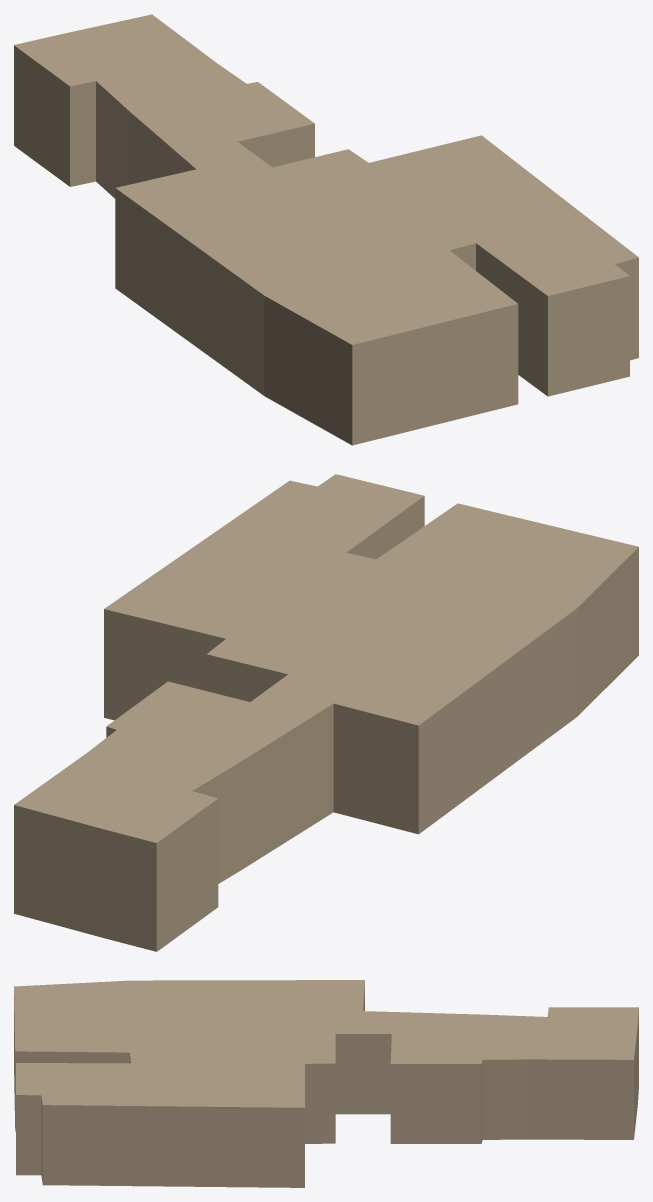
Rendered from bld_98768001.dae.
3 views of the same model, one above another, from view 1: azimuth 30°, elevation 25°; view 2: azimuth 150°, elevation 25°; view 3: azimuth 270°, elevation 25° (orthographic). The views are drawn at different scales.
Visible parts, largest first — view 1: Edwards Walk Arcade; view 2: Edwards Walk Arcade; view 3: Edwards Walk Arcade.
Part boxes in pixels (box(x1,y1,x2,y2)): Edwards Walk Arcade: box(14, 14, 638, 445); Edwards Walk Arcade: box(14, 474, 638, 951); Edwards Walk Arcade: box(14, 980, 638, 1187).
Bounding box in the file's own units: 27.36 × 56.54 × 8.
